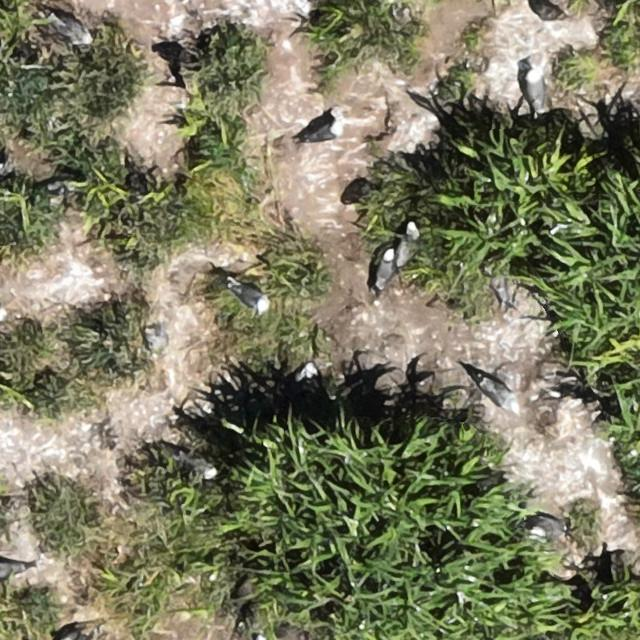umineko: (473, 366, 521, 419), (42, 7, 94, 46), (526, 516, 574, 544), (304, 116, 345, 145), (398, 221, 419, 269), (232, 285, 267, 311), (182, 453, 216, 479), (375, 251, 395, 287), (525, 70, 542, 108)
